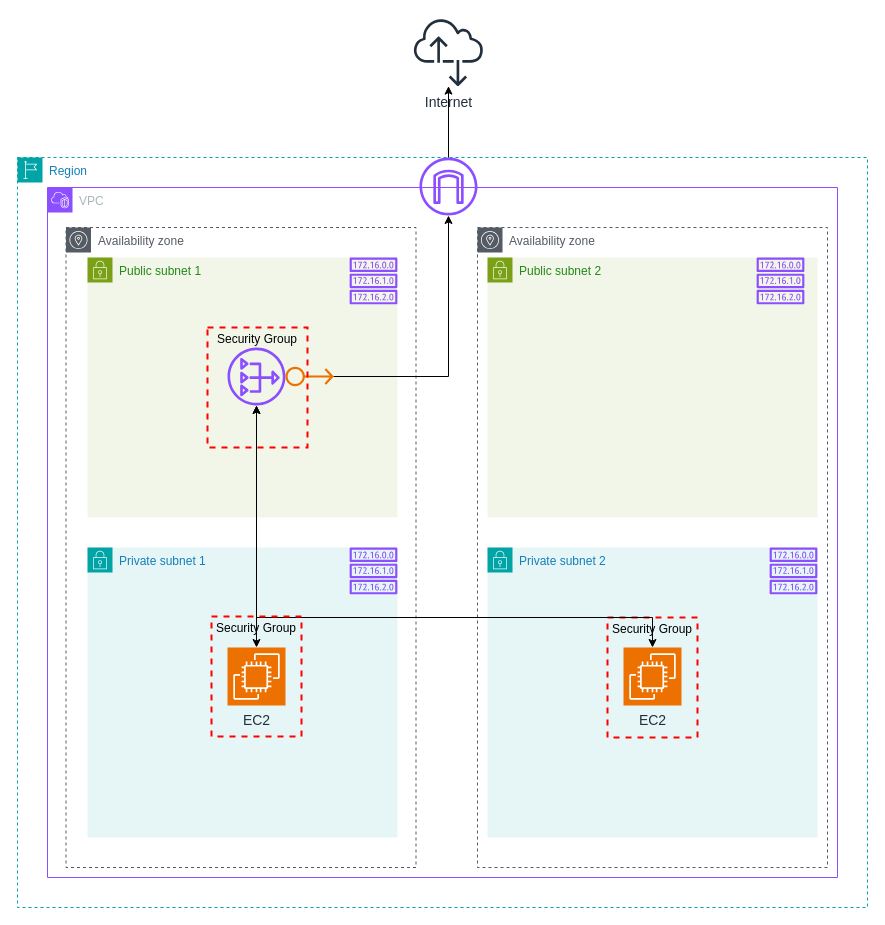
Some shapes in this 885 by 925 pixel diagram are drawn without their labels. Here are the shapes that lost their labels. From the top down, the centre of each, then its label:
point 448,186: Internet Gateway
point 256,376: NAT Instance Bastion
